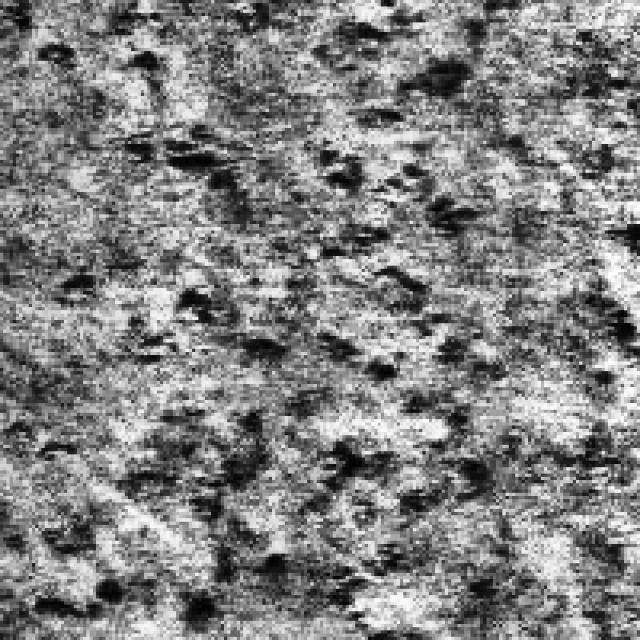Crazing: (16, 252, 438, 634), (99, 96, 483, 336)
